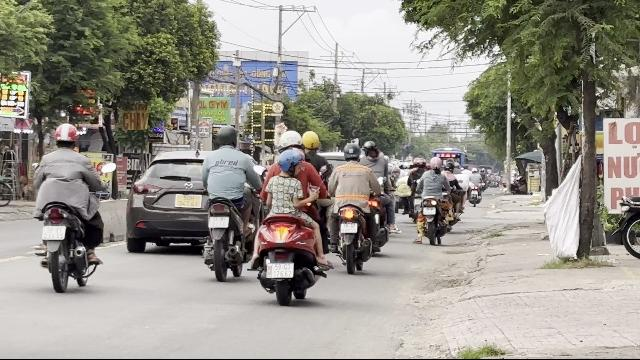helmet: (276, 148, 304, 176), (52, 122, 78, 150), (214, 124, 238, 148), (278, 130, 302, 154), (341, 140, 361, 162), (300, 131, 320, 153)
licenseplate: (270, 262, 294, 278), (42, 225, 66, 239), (210, 216, 228, 228), (340, 223, 358, 233)
motorcyclist: (251, 127, 331, 304), (29, 121, 106, 290), (198, 124, 262, 280), (325, 140, 393, 272)
